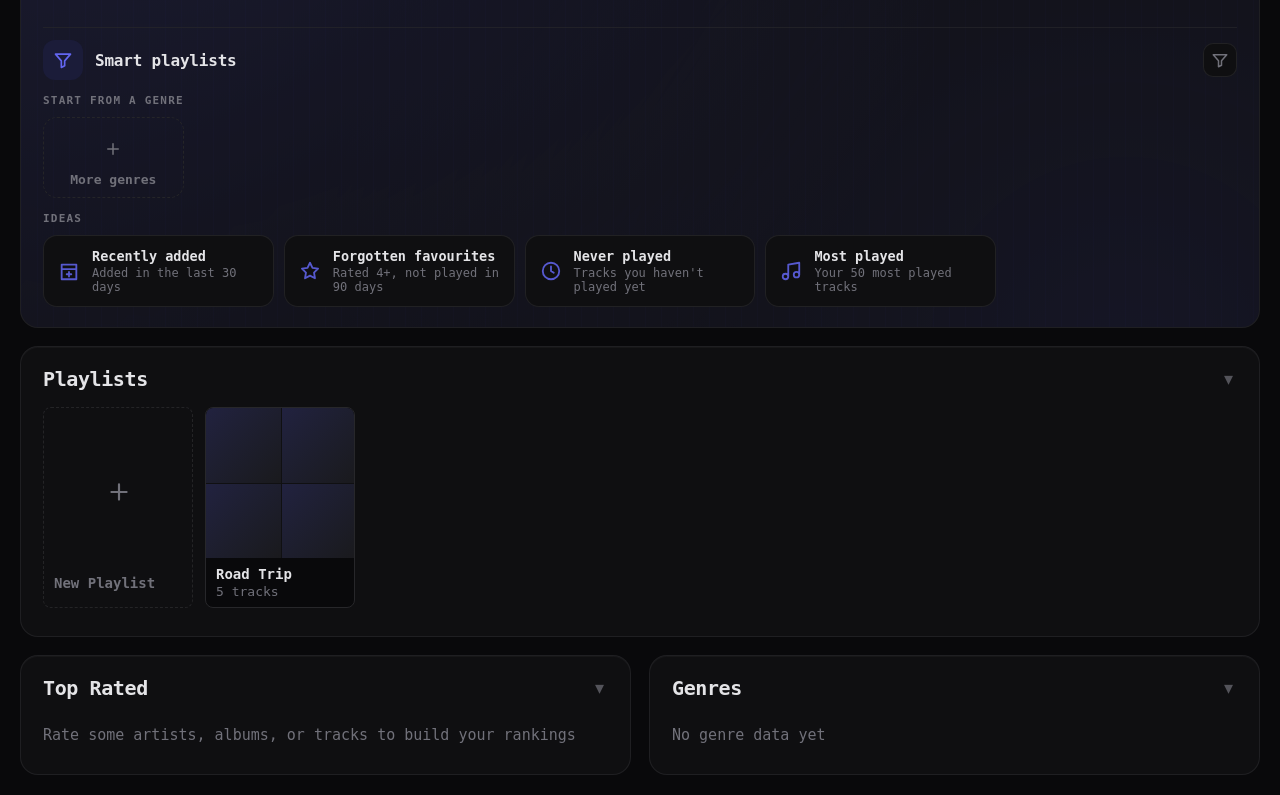
Test case: HomeView playback activity tabs › prevents creating a duplicate playlist name from the Home pane
(page scrolled)
Click the button with aria-label "Create playlist from home".
click(118, 508)  # box [43,407,193,608]
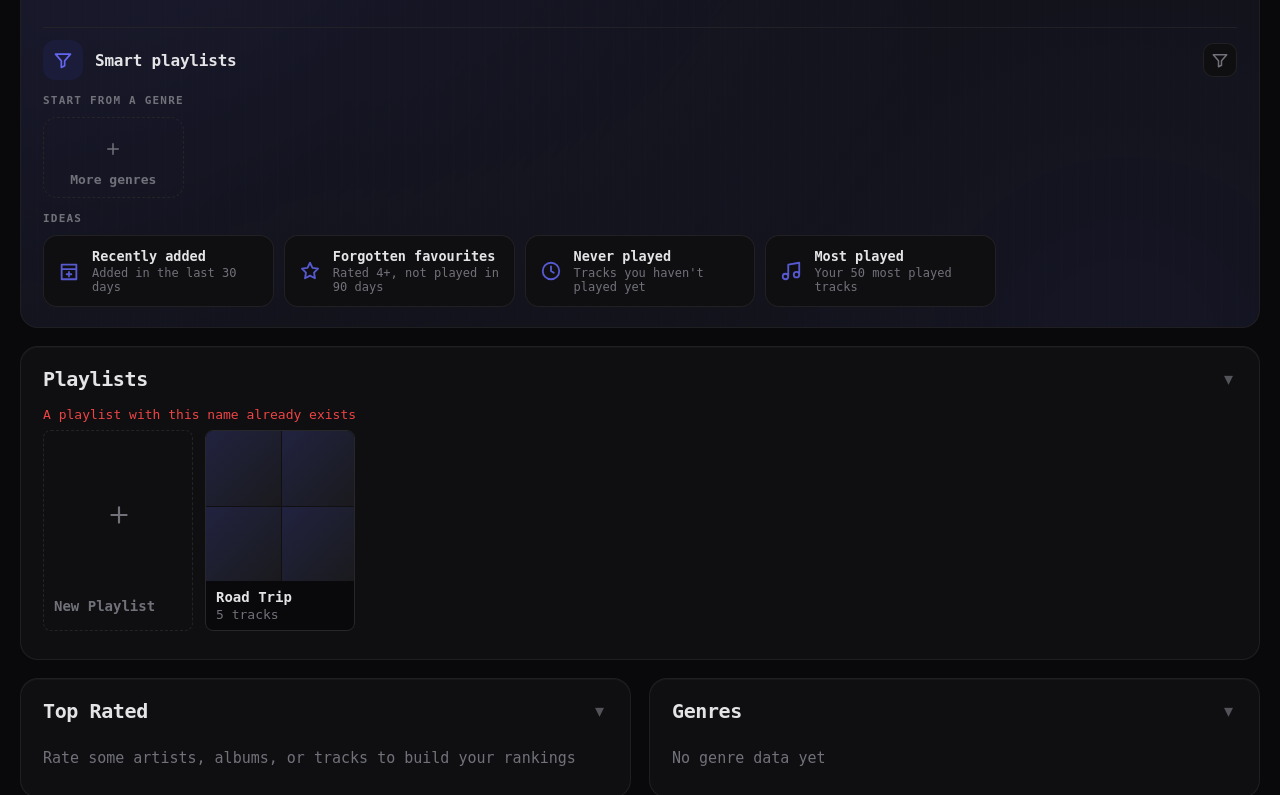
Expected: the text "A playlist with this name already exists" is shown, [43,407,356,422]
